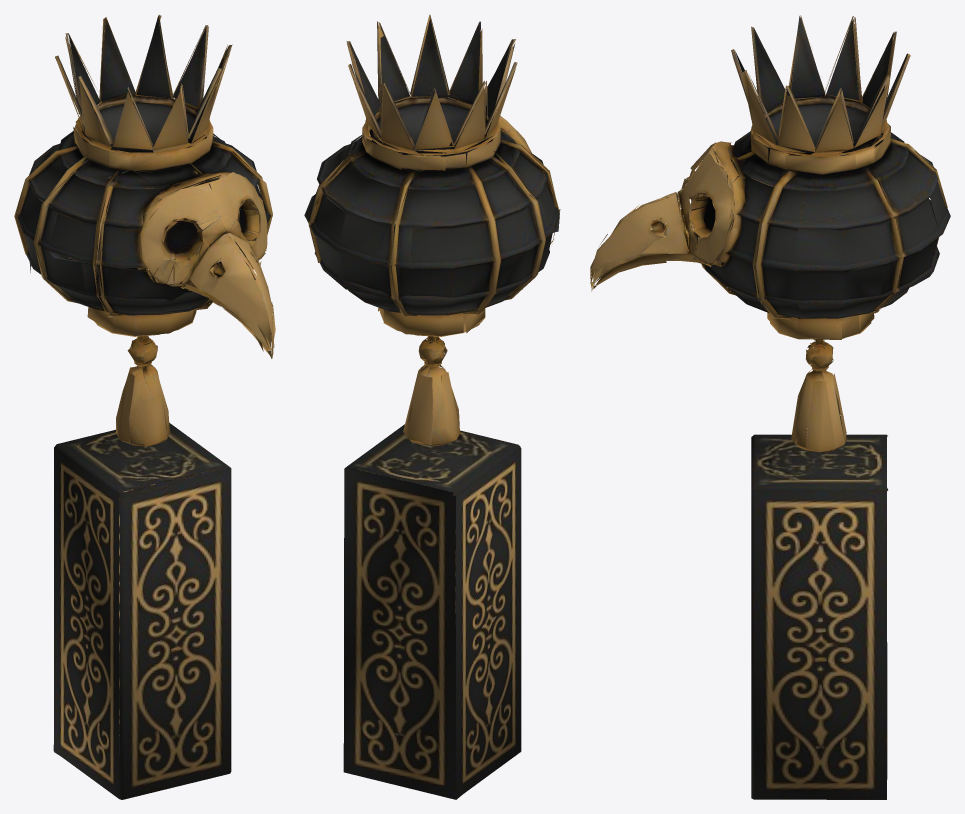
The model's file is hexidol@shadowplay.glb.
3 views of the same model, side by side, from view 1: azimuth 30°, elevation 25°; view 2: azimuth 150°, elevation 25°; view 3: azimuth 270°, elevation 25° (orthographic).
Visible parts, largest first — view 1: hexidol@shadowplay; view 2: hexidol@shadowplay; view 3: hexidol@shadowplay.
Part boxes in pixels (bbox=[...]): hexidol@shadowplay: bbox=[14, 15, 275, 799]; hexidol@shadowplay: bbox=[304, 14, 560, 799]; hexidol@shadowplay: bbox=[590, 15, 950, 799].
Bounding box in the file's own units: 0.6786 × 2.1 × 0.9502.
1 material, 1 textured.
